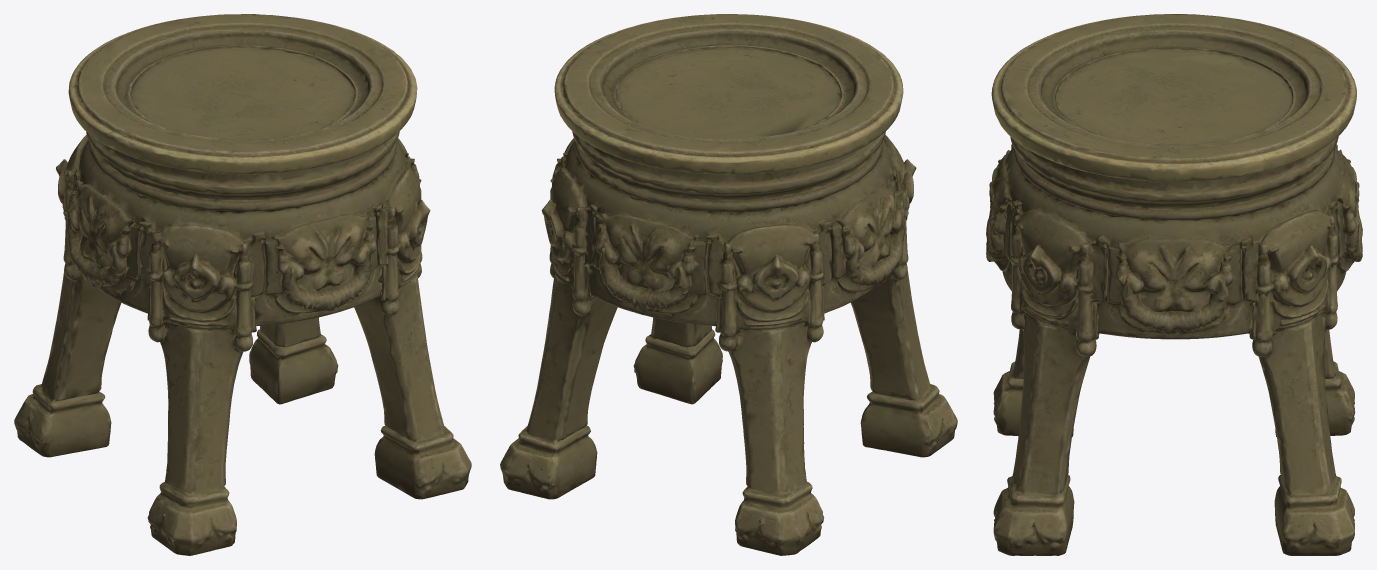
Rendered from bronze-pedestal-small-optimized.glb.
The picture shows the model from 3 angles, left to right: view 1: azimuth 30°, elevation 25°; view 2: azimuth 150°, elevation 25°; view 3: azimuth 270°, elevation 25°; orthographic projection. The views are drawn at different scales.
Parts seen in each view (by area): view 1: world; view 2: world; view 3: world.
Boxes of the visible parts, x1,y1,x2,y2 form: world: (14, 14, 471, 555); world: (500, 14, 957, 555); world: (986, 14, 1362, 555).
Bounding box in the file's own units: 0.6935 × 0.8 × 0.6891.
1 material, 1 textured.
